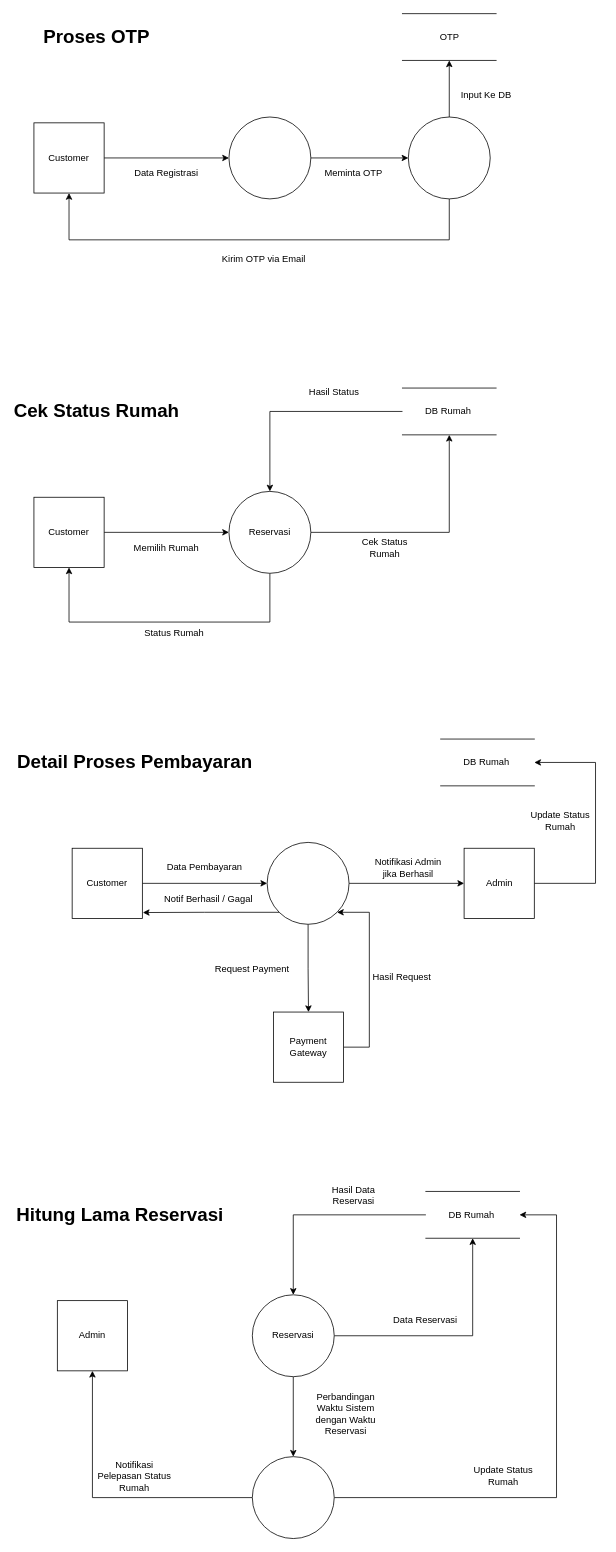
Image size: 616x1552. Some labels were removed from this diagram. The box of each missing label's shape, as (x1, y1, x2, y2) in pixels:
Generate OTP: (408, 116, 490, 199)
Jika Reservasi > 7 hari: (252, 1456, 334, 1539)
Validasi Data: (266, 842, 349, 924)
Verifikasi Data: (228, 116, 311, 199)
